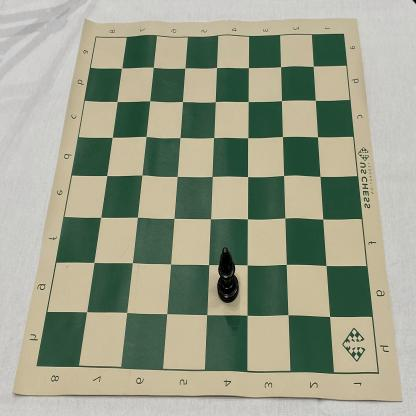black-bishop: (217, 248, 240, 304)
